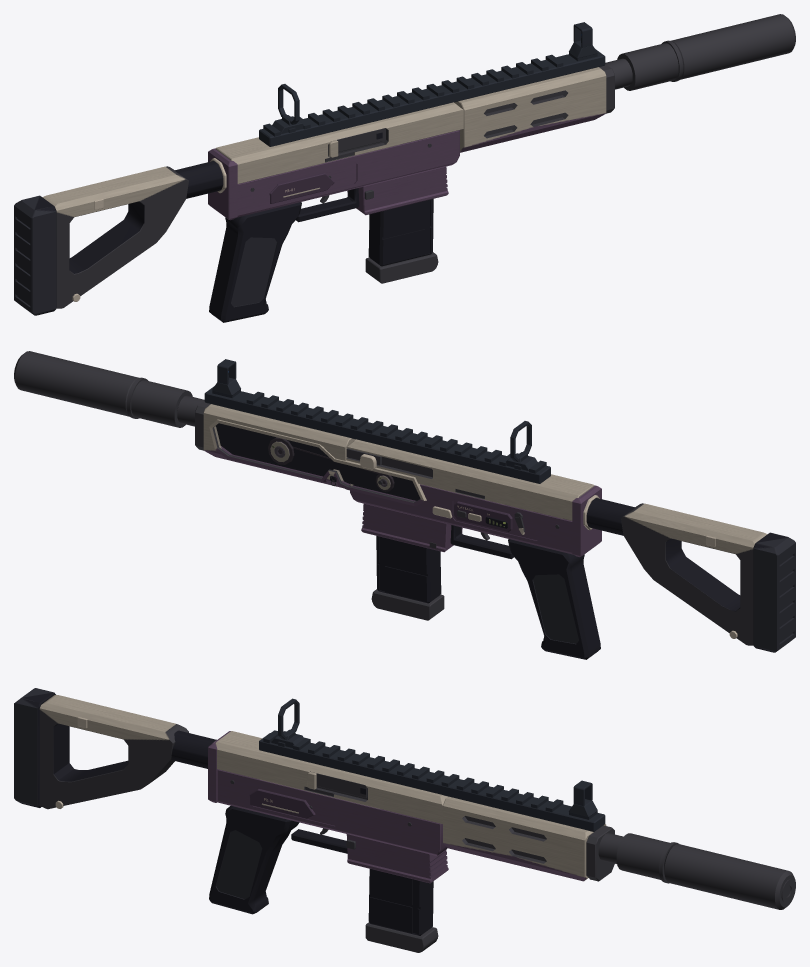
Rendered from Phantom_Playback_v01.fbx.
3 views of the same model, one above another, from view 1: azimuth 30°, elevation 25°; view 2: azimuth 150°, elevation 25°; view 3: azimuth 330°, elevation 25° (orthographic).
Visible parts, largest first — view 1: Phantom_Receiver, Phantom_Stock, Phantom_Handguard, Phantom_Grip, Phantom_Suppressor, Phantom_Rail, Phantom_Mag, Phantom_Sights, Playback_ServicePanel, Phantom_Bolt; view 2: Phantom_Stock, Phantom_Receiver, Phantom_Grip, Phantom_Suppressor, Phantom_Rail, Playback_SmokedWindow, Phantom_Mag, Phantom_Handguard, Playback_CassetteBed, Playback_CassetteHousing, Phantom_Sights, Playback_ControlFace (+1 smaller); view 3: Phantom_Receiver, Phantom_Stock, Phantom_Handguard, Phantom_Suppressor, Phantom_Rail, Phantom_Grip, Phantom_Mag, Phantom_Sights, Playback_ServicePanel, Phantom_Bolt.
Part boxes in pixels (bbox=[...]): Phantom_Receiver: bbox=[208, 102, 463, 220]; Phantom_Stock: bbox=[14, 158, 226, 315]; Phantom_Handguard: bbox=[454, 64, 614, 152]; Phantom_Grip: bbox=[209, 188, 359, 322]; Phantom_Suppressor: bbox=[605, 14, 795, 90]; Phantom_Rail: bbox=[259, 49, 605, 146]; Phantom_Mag: bbox=[365, 199, 438, 283]; Phantom_Sights: bbox=[272, 22, 597, 133]; Playback_ServicePanel: bbox=[269, 172, 334, 203]; Phantom_Bolt: bbox=[328, 128, 382, 154]; Phantom_Stock: bbox=[583, 495, 795, 652]; Phantom_Receiver: bbox=[346, 439, 601, 557]; Phantom_Grip: bbox=[450, 525, 600, 659]; Phantom_Suppressor: bbox=[14, 351, 204, 427]; Phantom_Rail: bbox=[204, 386, 550, 483]; Playback_SmokedWindow: bbox=[214, 423, 419, 501]; Phantom_Mag: bbox=[371, 536, 444, 620]; Phantom_Handguard: bbox=[195, 401, 355, 488]; Playback_CassetteBed: bbox=[216, 423, 420, 500]; Playback_CassetteHousing: bbox=[209, 419, 426, 506]; Phantom_Sights: bbox=[212, 359, 537, 470]; Playback_ControlFace: bbox=[454, 501, 512, 532]; Phantom_Receiver: bbox=[208, 731, 448, 883]; Phantom_Stock: bbox=[14, 688, 219, 809]; Phantom_Handguard: bbox=[443, 796, 614, 881]; Phantom_Suppressor: bbox=[598, 833, 795, 909]; Phantom_Rail: bbox=[259, 730, 605, 831]; Phantom_Grip: bbox=[209, 806, 347, 914]; Phantom_Mag: bbox=[365, 869, 438, 952]; Phantom_Sights: bbox=[271, 698, 597, 819]; Playback_ServicePanel: bbox=[249, 789, 315, 818]; Phantom_Bolt: bbox=[313, 772, 367, 798].
Size of the model in its own units: 360 by 96.5 by 21.8.
17 materials, 17 textured.
